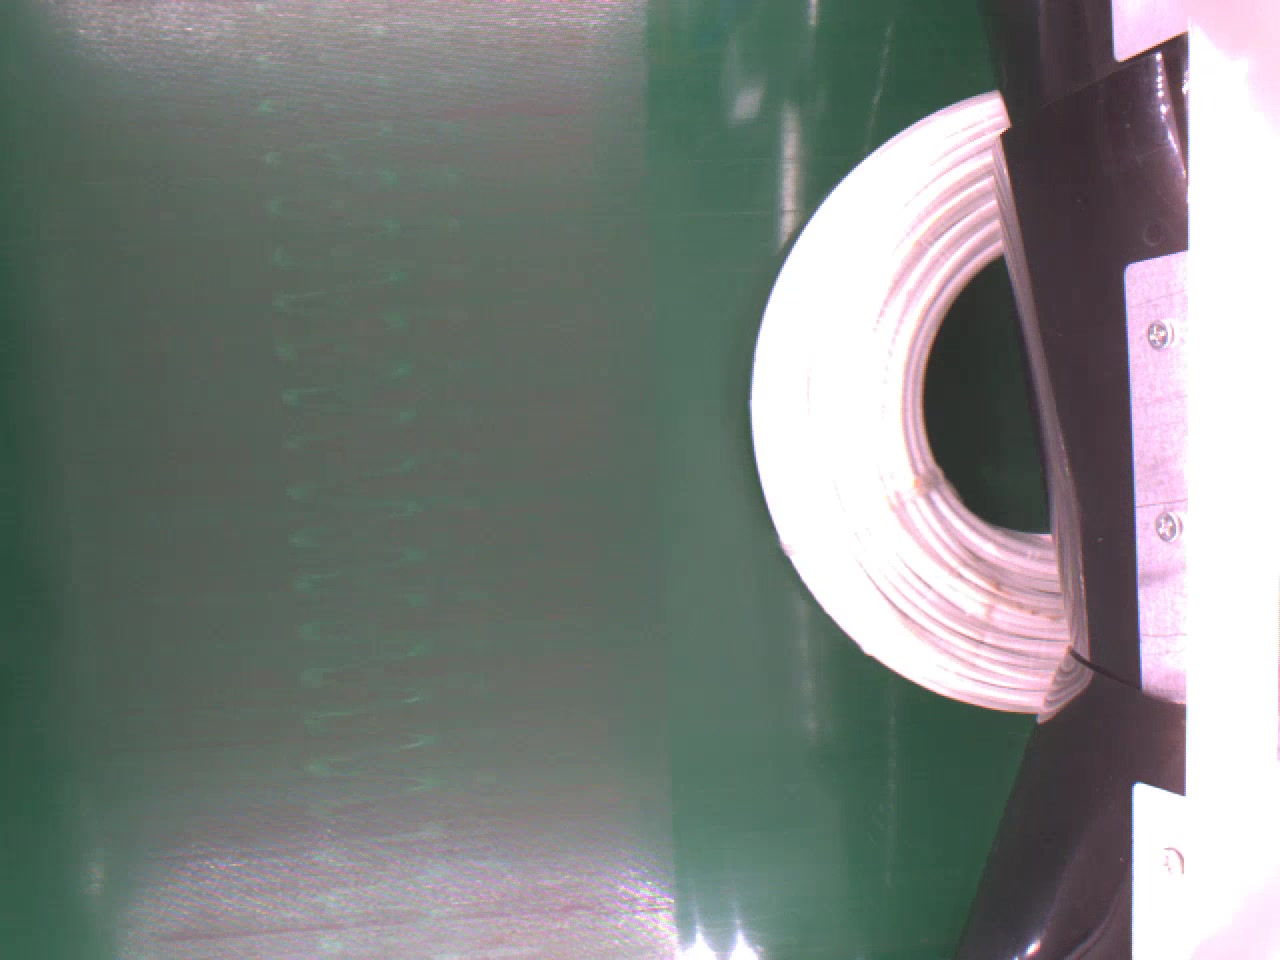white: (740, 82, 1067, 712)
